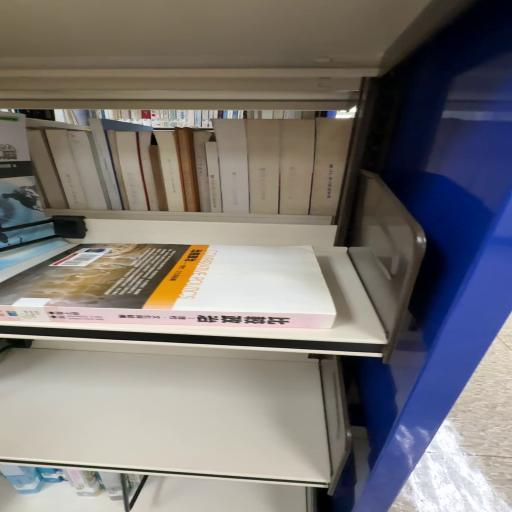flat: (0, 243, 336, 329)
